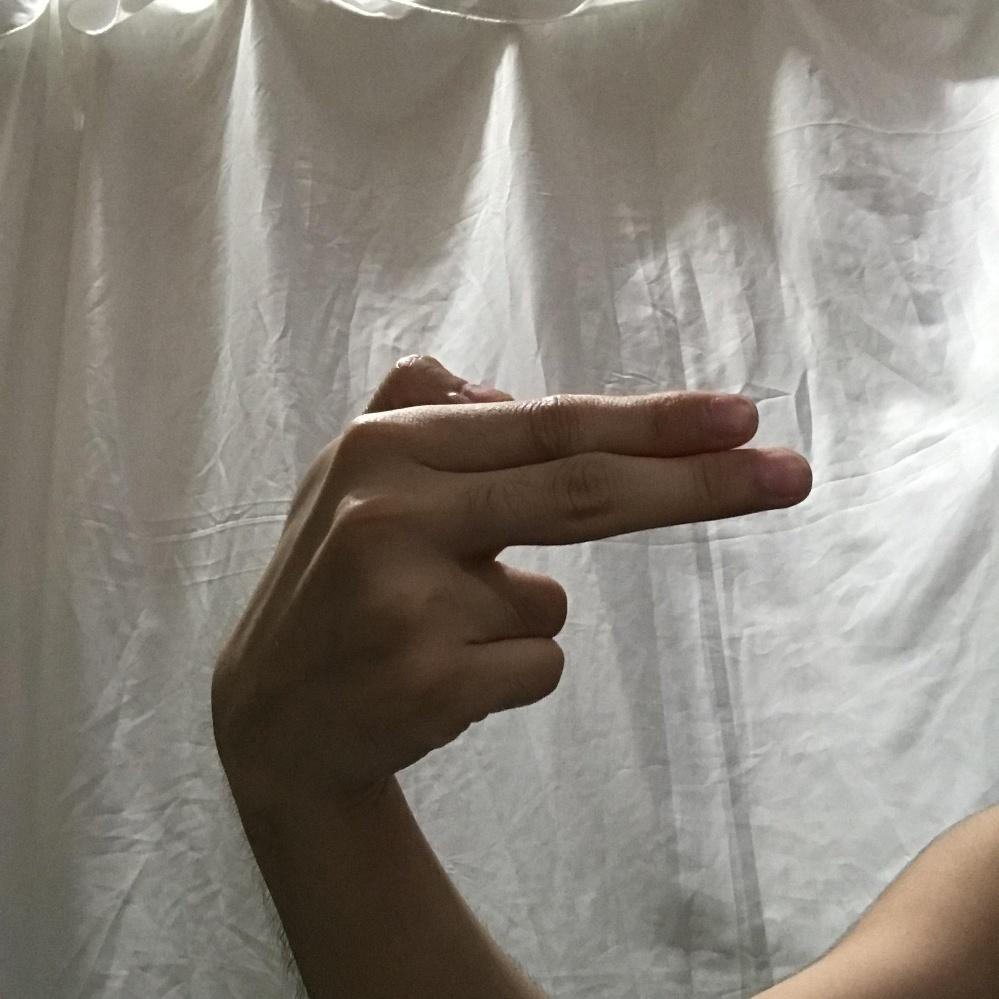h: (258, 344, 812, 773)
